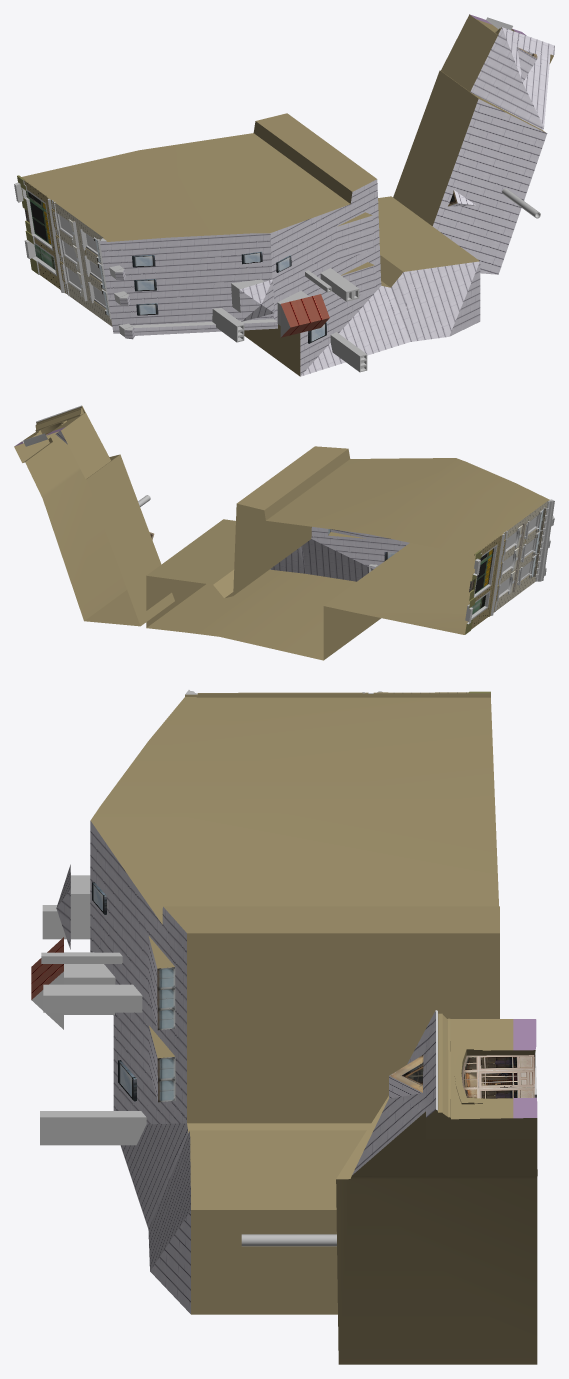
File: Suur-Karja_11.obj
The picture shows the model from 3 angles, top to bottom: view 1: azimuth 30°, elevation 25°; view 2: azimuth 150°, elevation 25°; view 3: azimuth 270°, elevation 25°; orthographic projection. The views are drawn at different scales.
Parts seen in each view (by area): view 1: Suur_Karja11; view 2: Suur_Karja11; view 3: Suur_Karja11.
Part boxes in pixels (bbox=[...]): Suur_Karja11: bbox=[14, 14, 554, 376]; Suur_Karja11: bbox=[14, 405, 554, 660]; Suur_Karja11: bbox=[31, 690, 537, 1364].
Size of the model in its own units: 47.06 by 18.83 by 22.55.
